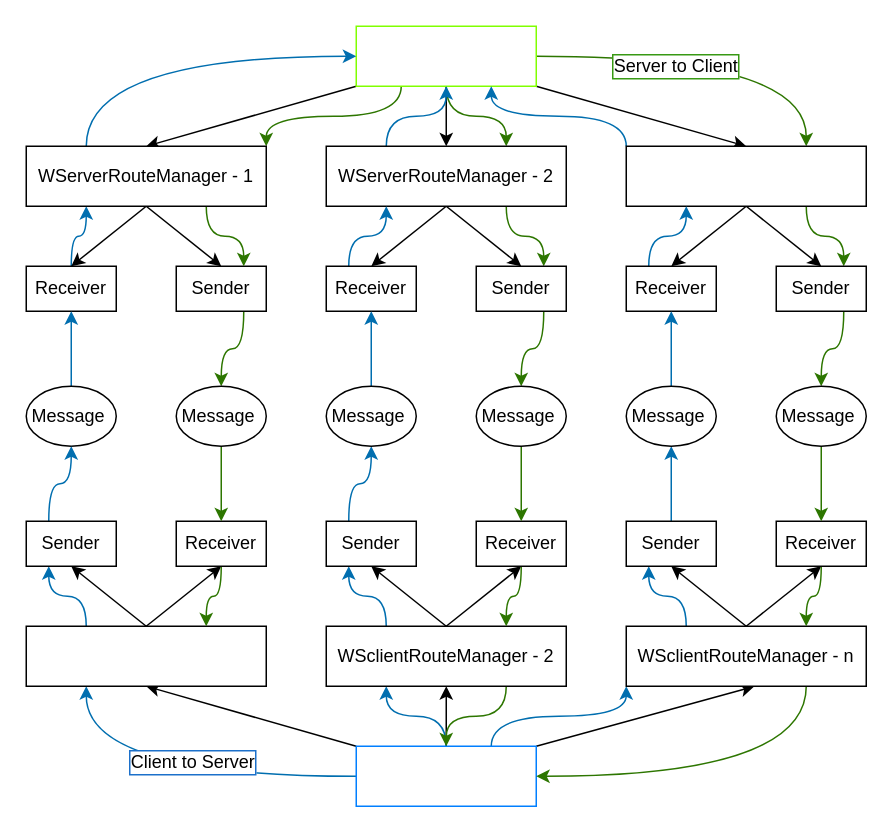
This 893x833 diagram has some shape labels left out. The centre of each missing label's shape, as x and y in pixels:
"Client" belongs at point (445, 775).
"Server" belongs at point (445, 55).
"WSclientRouteManager - 1" belongs at point (145, 655).
"WServerRouteManager - n" belongs at point (745, 175).
